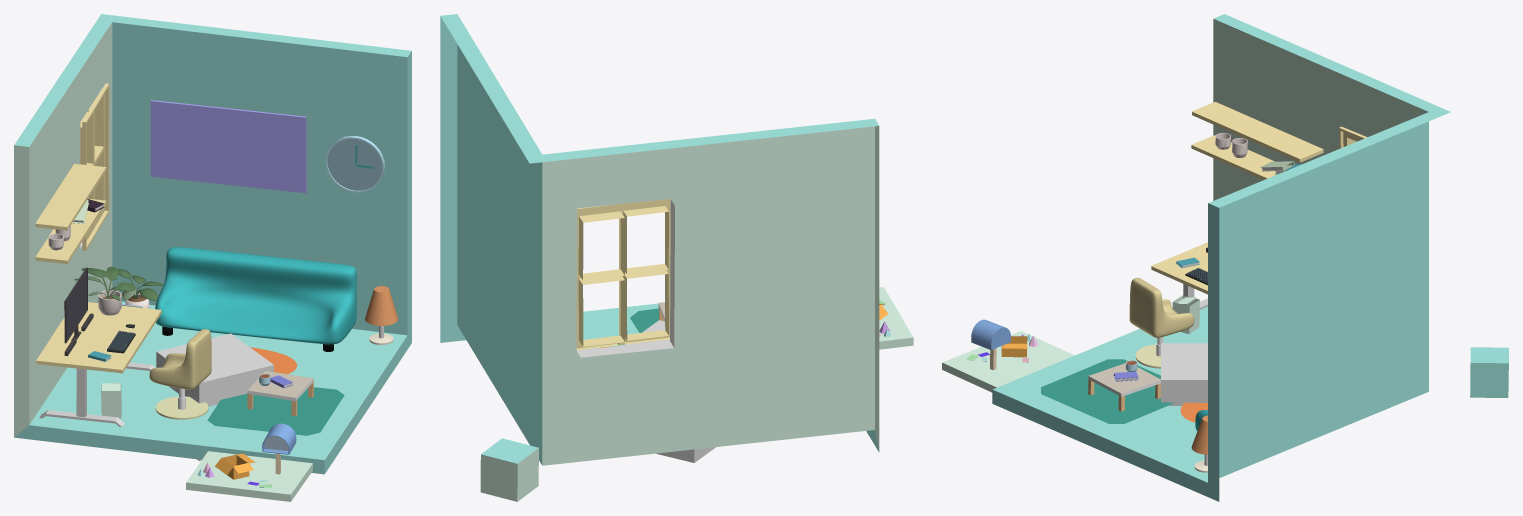
Rendered from finalroomV6.glb.
3 views of the same model, side by side, from view 1: azimuth 30°, elevation 25°; view 2: azimuth 150°, elevation 25°; view 3: azimuth 270°, elevation 25° (orthographic). The views are drawn at different scales.
Parts seen in each view (by area): view 1: body, sofa, selves, flooritems, Desks, Cube, minifloor, clock, chair, tabletops, Computer, mailbox (+1 smaller); view 2: body, Cube.001, minifloor, Cube; view 3: body, flooritems, selves, minifloor, Cube, sofa, chair, Cube.001, Desks, mailbox, letters.
Boxes of the visible parts, x1,y1,x2,y2 form: body: [14, 14, 411, 474]; sofa: [110, 247, 398, 416]; selves: [35, 100, 306, 263]; flooritems: [101, 347, 344, 435]; Desks: [36, 302, 161, 426]; Cube: [156, 333, 273, 461]; minifloor: [186, 451, 312, 501]; clock: [325, 135, 384, 192]; chair: [149, 329, 211, 389]; tabletops: [64, 266, 135, 361]; Computer: [64, 267, 87, 343]; mailbox: [262, 423, 296, 474]; body: [440, 14, 879, 465]; Cube.001: [480, 438, 538, 501]; minifloor: [879, 287, 913, 349]; Cube: [624, 320, 715, 462]; body: [992, 14, 1450, 501]; flooritems: [1041, 295, 1207, 423]; selves: [1191, 102, 1323, 179]; minifloor: [942, 331, 1074, 392]; Cube: [1161, 343, 1207, 405]; sofa: [1088, 360, 1207, 472]; chair: [1129, 278, 1194, 337]; Cube.001: [1470, 347, 1508, 397]; Desks: [1151, 242, 1207, 309]; mailbox: [971, 319, 1010, 370]; letters: [966, 336, 1028, 362].
Size of the model in its own units: 10.59 by 8.46 by 13.08.
